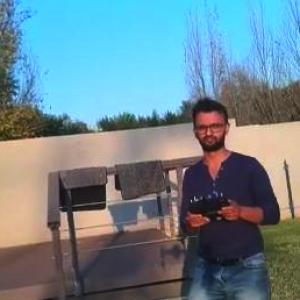follow: (177, 93, 287, 299)
